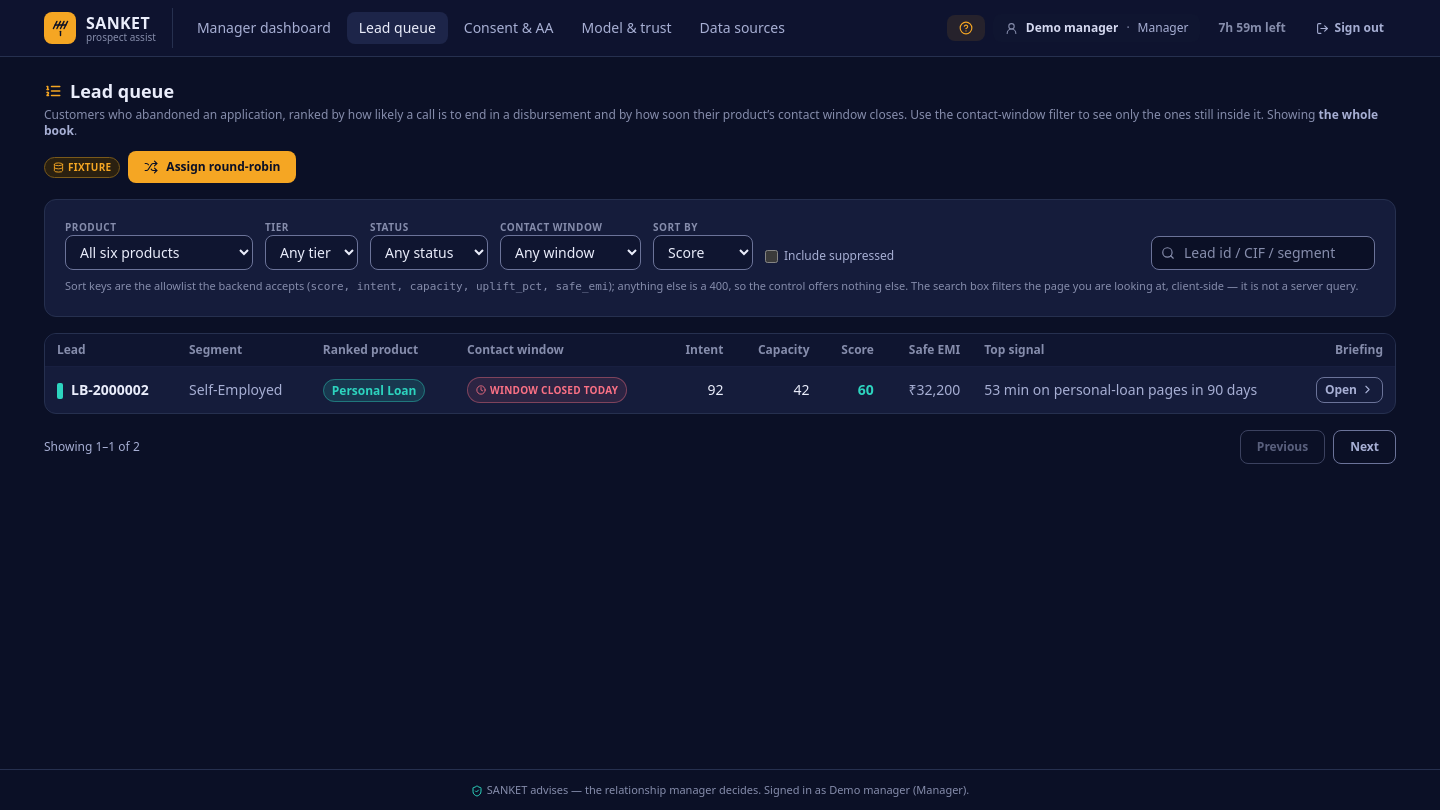
Test case: Queue — round-robin assignment › is offered to a manager and confirmed before it runs
Click the button with test id "assign-open" at (212, 167), box [128,151,296,183]
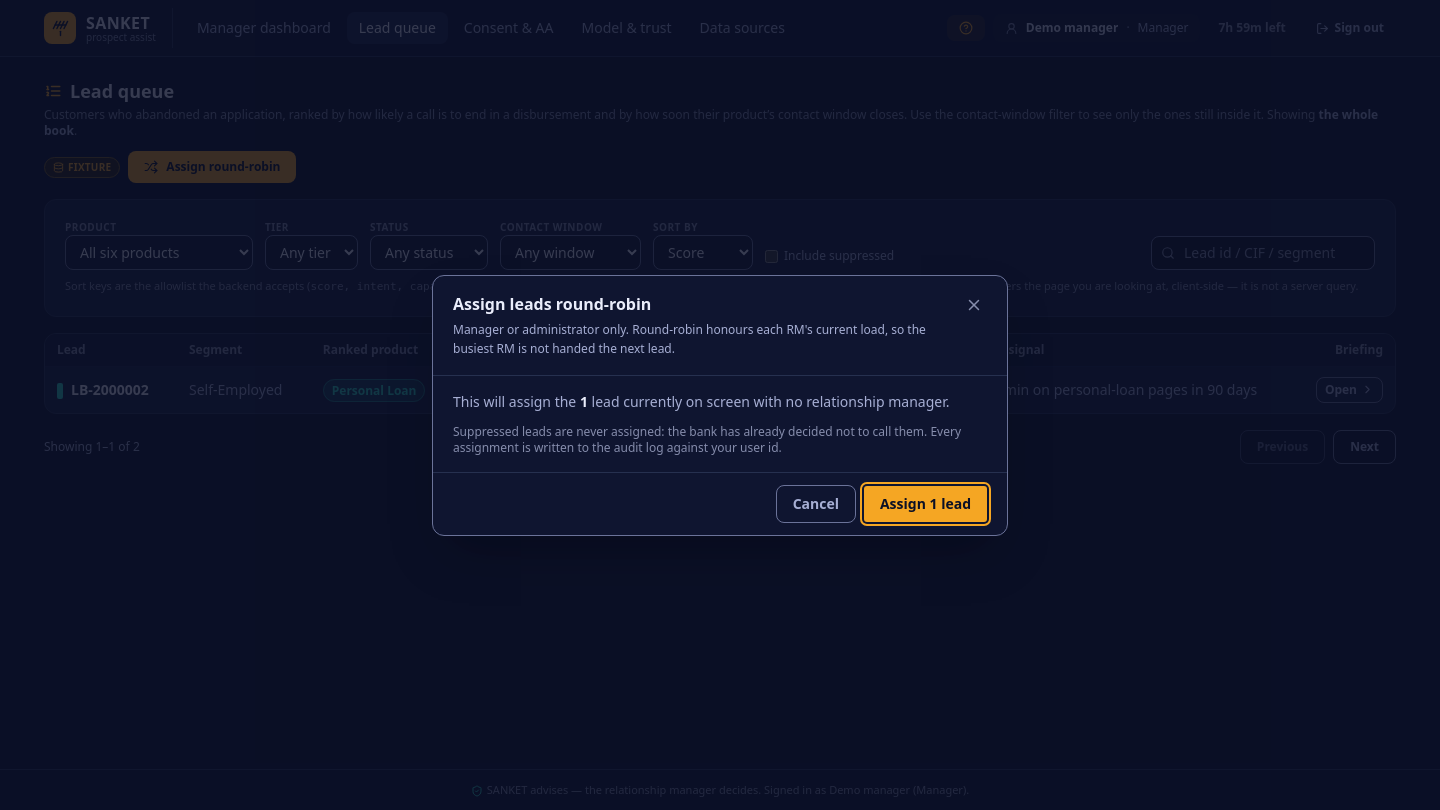
Now the dialog shows "1 lead currently on screen with no relationship manager", box [432,274,1008,536]
Click the button with test id "assign-confirm" at (925, 504), box [864,486,987,522]
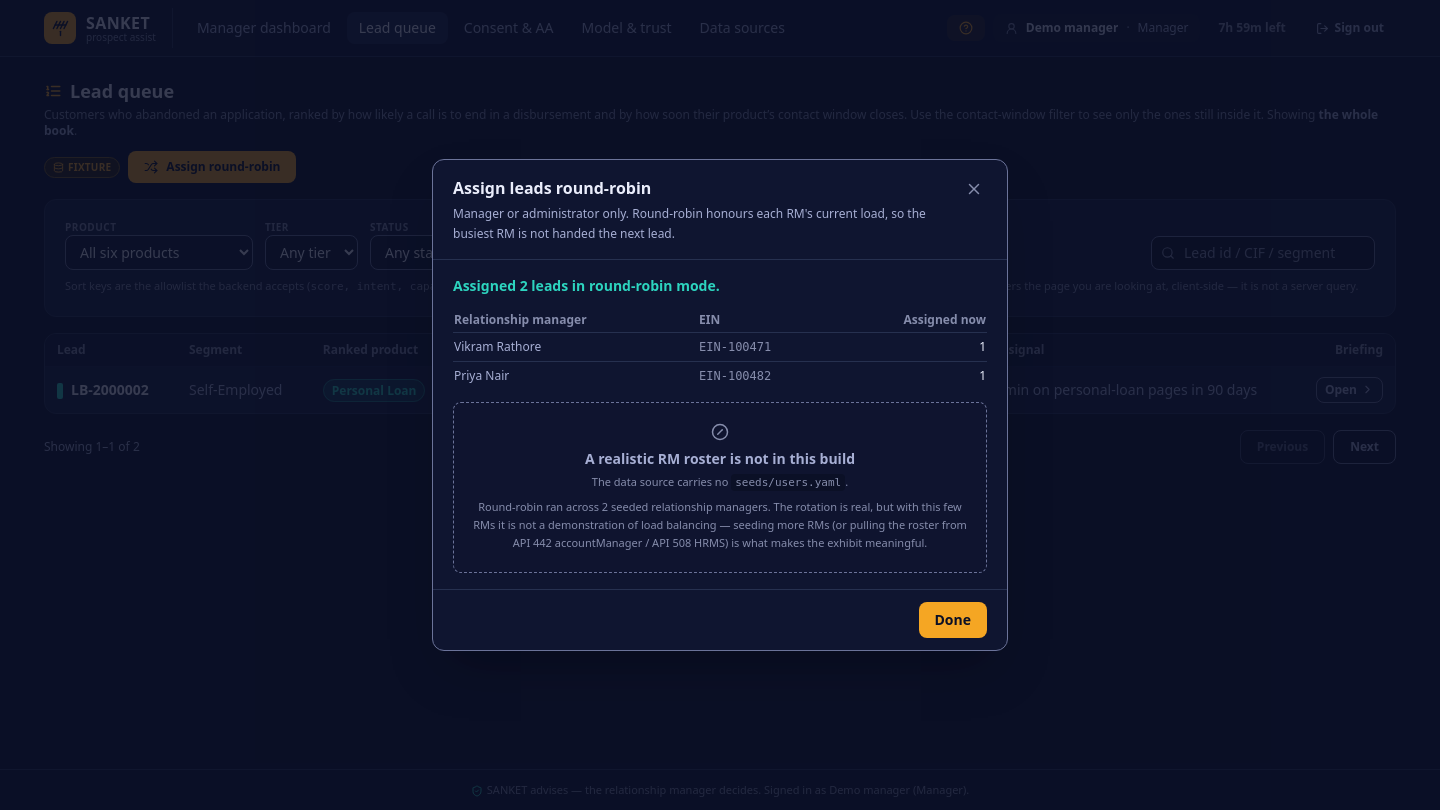
Now the element with test id "assign-result" shows "Assigned 2 leads", box [453,276,987,573]
